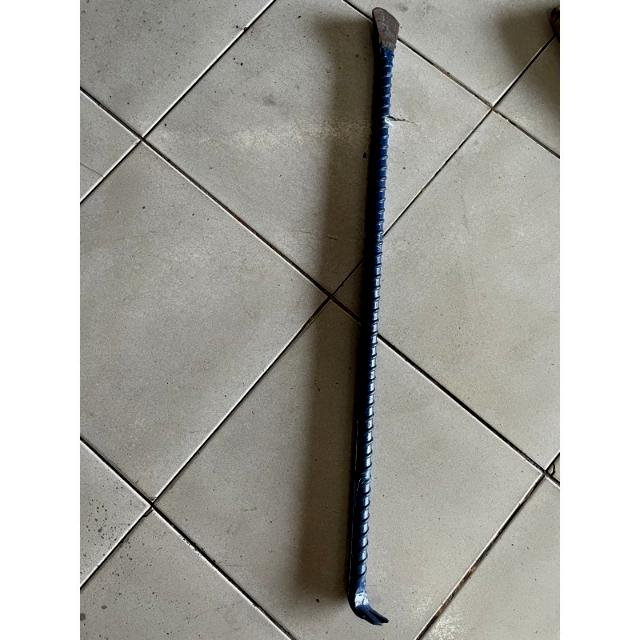crow bar: (333, 7, 412, 629)
